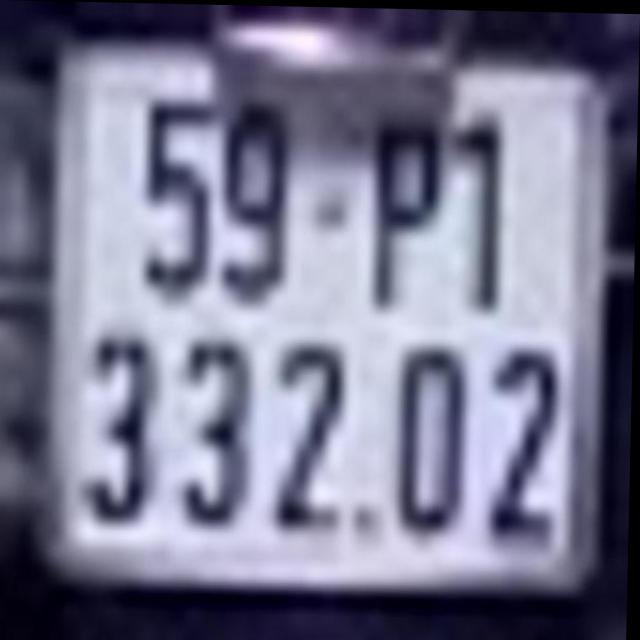0: (391, 339, 477, 537)
1: (453, 119, 519, 313)
2: (481, 337, 572, 531), (275, 338, 359, 535)
3: (175, 333, 260, 538), (82, 326, 163, 525)
5: (134, 92, 223, 300)
9: (226, 98, 297, 315)
P: (367, 118, 448, 322)
